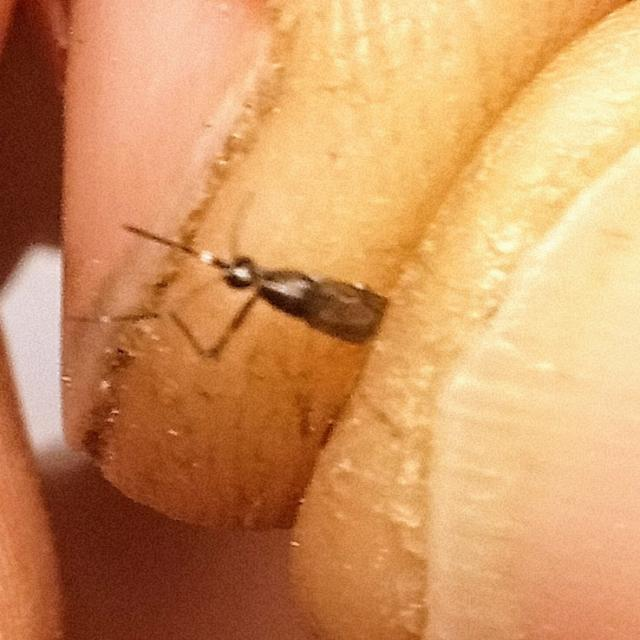albopictus: (112, 198, 404, 382)
